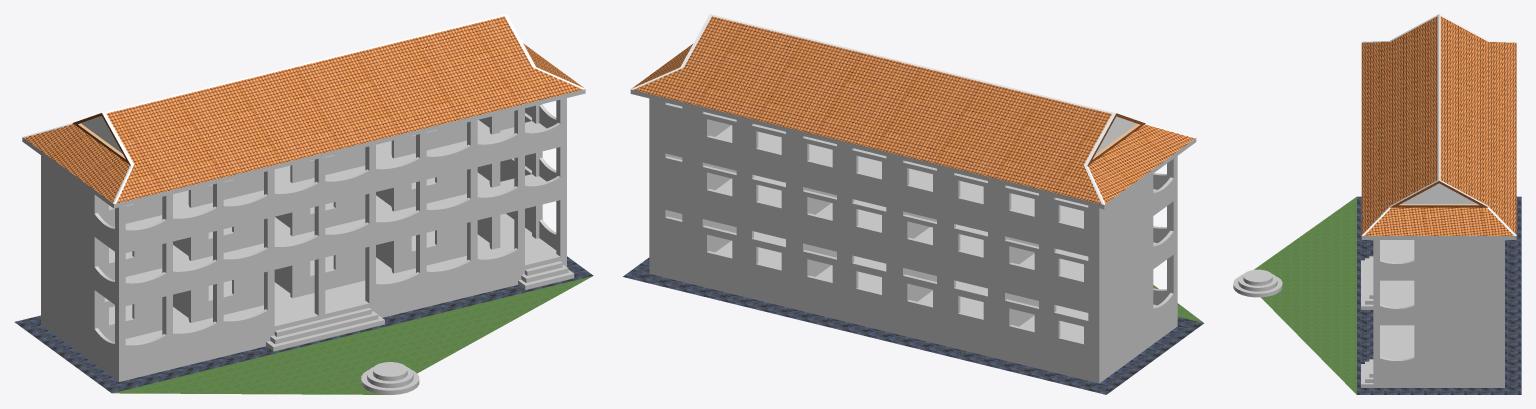
The model's file is pagoda.glb.
3 views of the same model, side by side, from view 1: azimuth 30°, elevation 25°; view 2: azimuth 150°, elevation 25°; view 3: azimuth 270°, elevation 25° (orthographic). The views are drawn at different scales.
Parts seen in each view (by area): view 1: _(Loose Entity); view 2: _(Loose Entity); view 3: _(Loose Entity).
Boxes of the visible parts, bbox=[...] form: _(Loose Entity): bbox=[14, 14, 593, 394]; _(Loose Entity): bbox=[623, 14, 1203, 394]; _(Loose Entity): bbox=[1233, 14, 1521, 394].
Size of the model in its own units: 28.5 by 13.3 by 17.49.
Materials: 7 (4 with a texture image).
